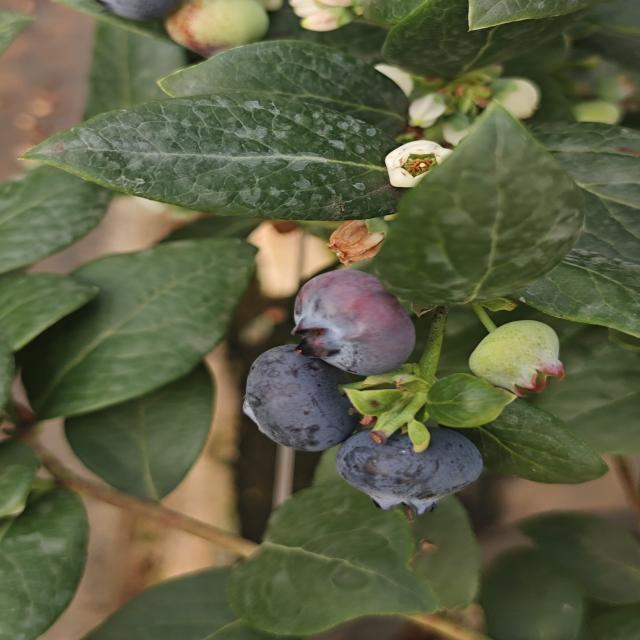ripe: (280, 264, 436, 377), (330, 422, 494, 520), (226, 339, 364, 454), (88, 0, 187, 28)
